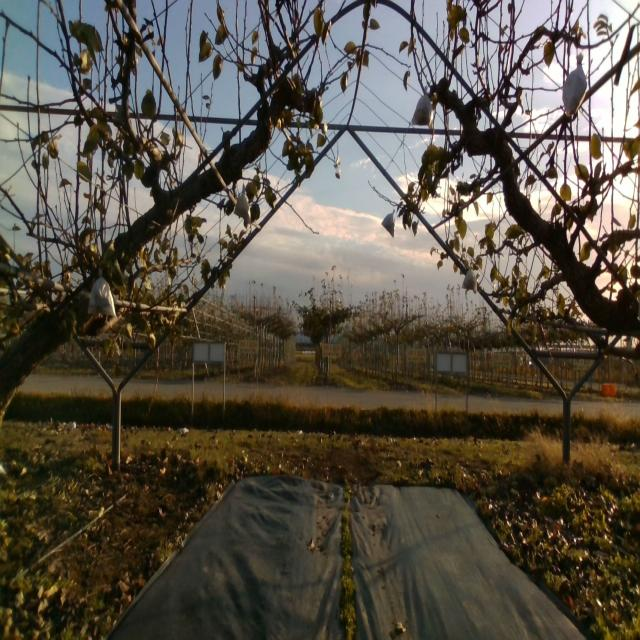pearbags: (562, 54, 588, 118), (87, 269, 118, 316), (410, 84, 432, 125), (235, 186, 252, 220), (460, 269, 478, 293), (381, 209, 396, 237)
